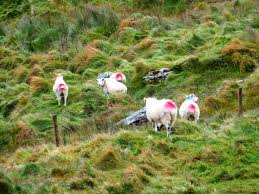sheep: (142, 93, 179, 137), (93, 75, 130, 99), (181, 91, 204, 127), (53, 74, 72, 109), (107, 68, 131, 84)
